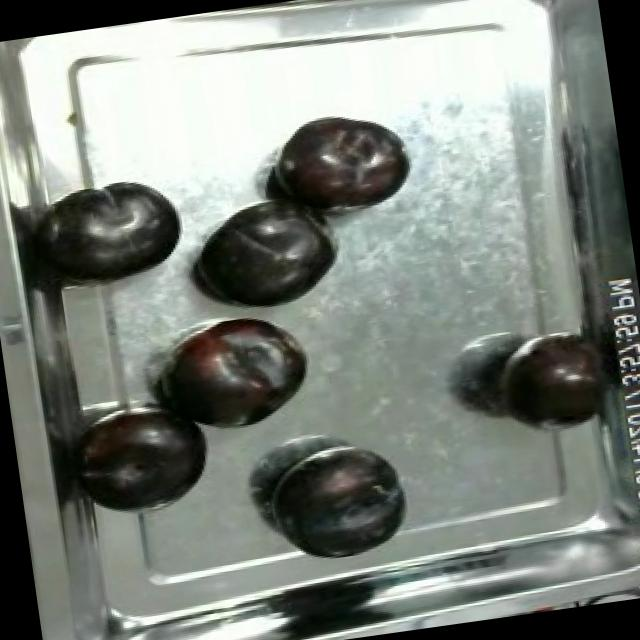Fruit: (176, 183, 348, 326), (147, 301, 315, 445), (30, 164, 194, 298), (260, 436, 420, 572), (265, 104, 420, 229), (72, 392, 220, 522), (481, 321, 618, 446)
